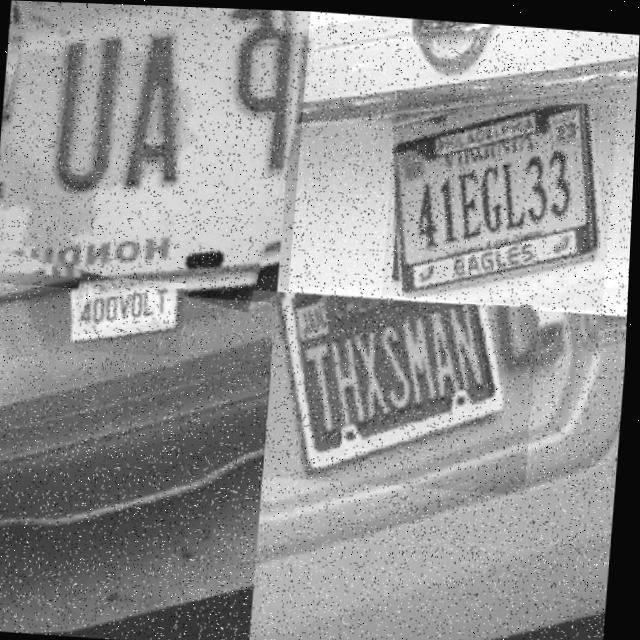LicensePlate: (0, 0, 310, 301), (264, 287, 541, 491), (394, 99, 608, 294), (79, 280, 186, 349)
